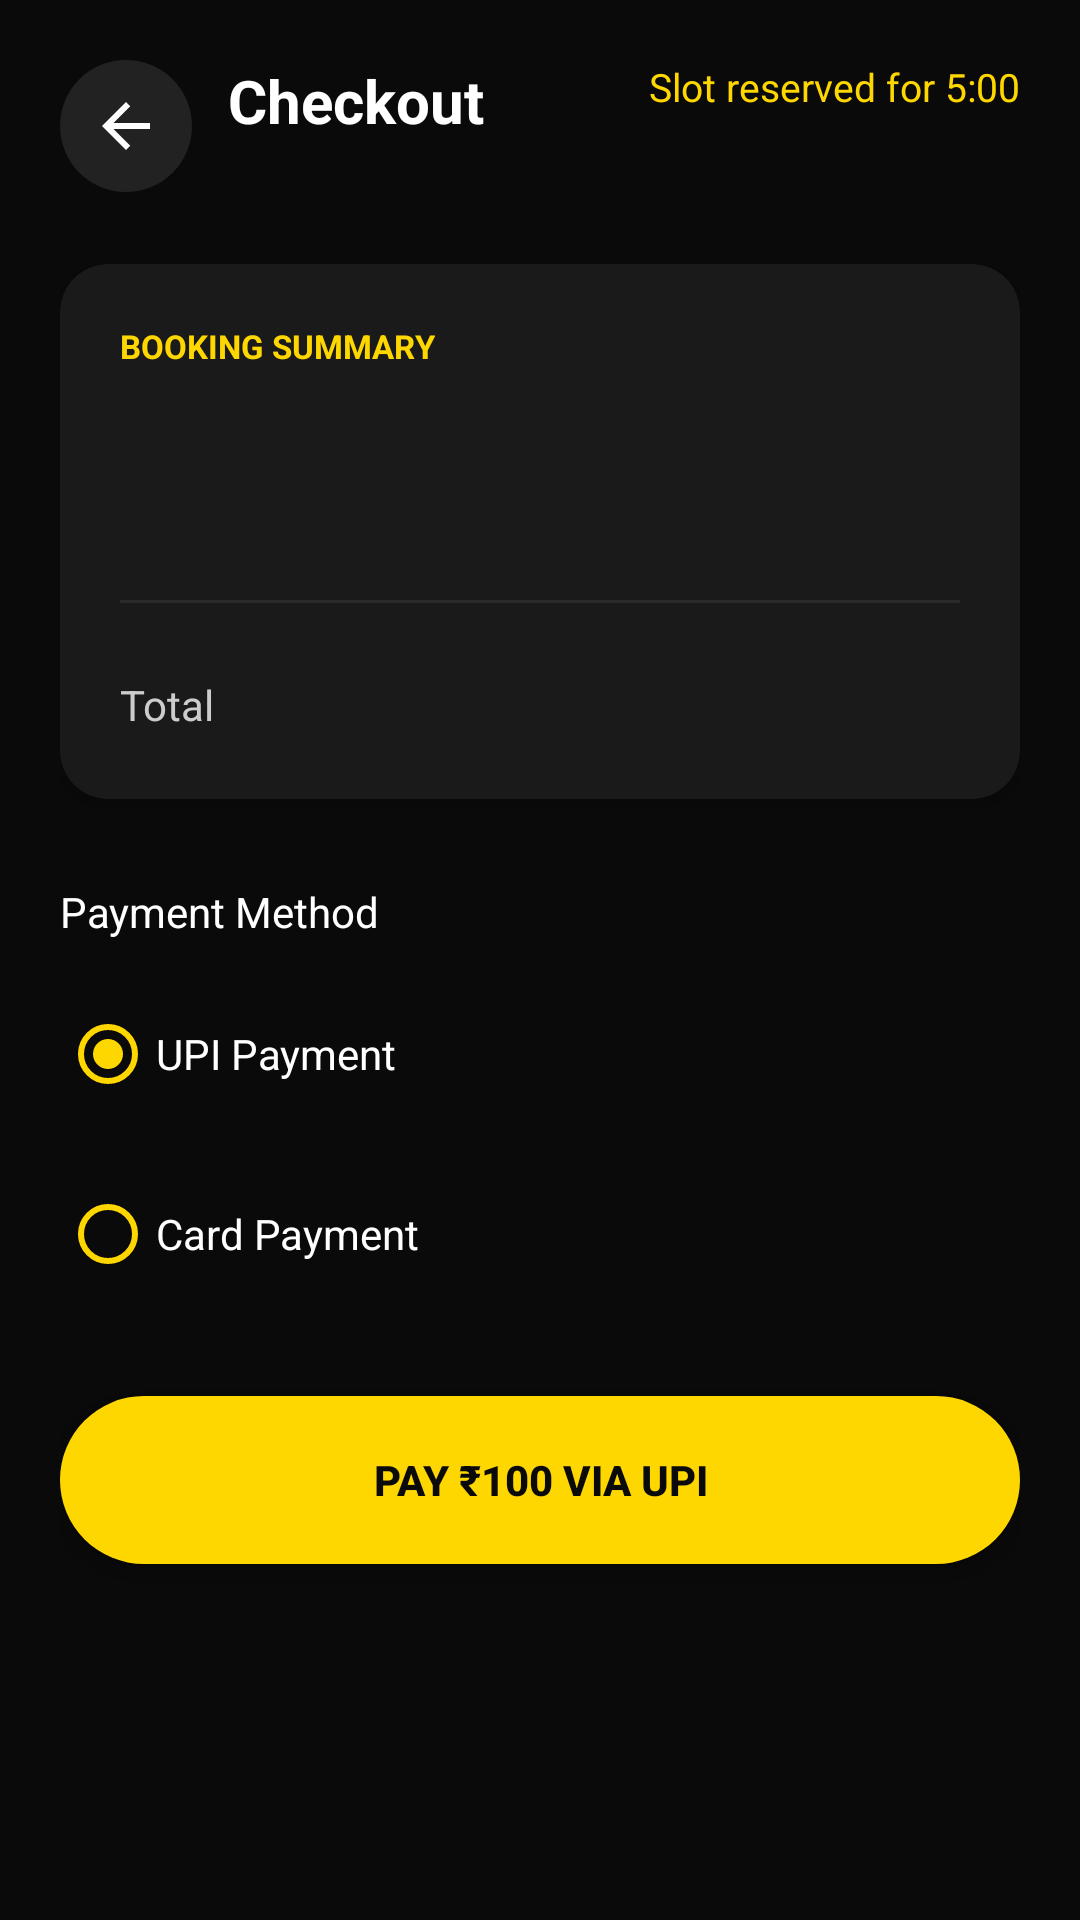

Icons on this 1080x1920 Android screen, each with the point to tap as (x=x, y=y):
back: (x=126, y=126)
